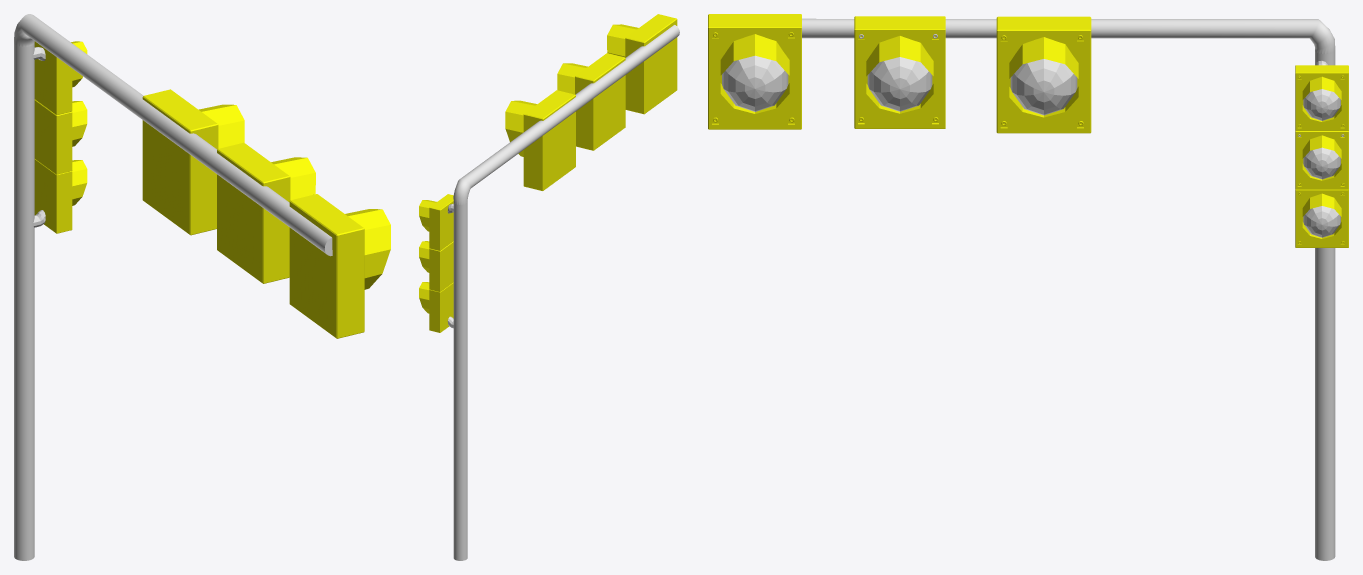
Rendered from Semaforo2.fbx.
3 views of the same model, side by side, from view 1: azimuth 30°, elevation 25°; view 2: azimuth 150°, elevation 25°; view 3: azimuth 270°, elevation 25° (orthographic). The views are drawn at different scales.
Visible parts, largest first — view 1: Base (×6), pCylinder1, CoberturaLuz (×5); view 2: Base (×6), pCylinder1, CoberturaLuz (×3); view 3: Base (×6), pCylinder1, Luz (×6), CoberturaLuz (×3).
Boxes of the visible parts, box(x1,y1,x2,y2) form: Base (×6): box(34, 41, 364, 338); pCylinder1: box(14, 14, 332, 560); CoberturaLuz (×5): box(72, 101, 390, 289); Base (×6): box(429, 14, 677, 332); pCylinder1: box(453, 25, 679, 560); CoberturaLuz (×3): box(505, 24, 638, 156); Base (×6): box(708, 14, 1348, 247); pCylinder1: box(802, 18, 1335, 560); Luz (×6): box(722, 55, 1340, 237); CoberturaLuz (×3): box(720, 34, 1078, 117).
Size of the model in its own units: 1.06 by 7.12 by 7.62.
